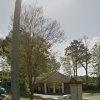Tree: (20, 8, 98, 78)
